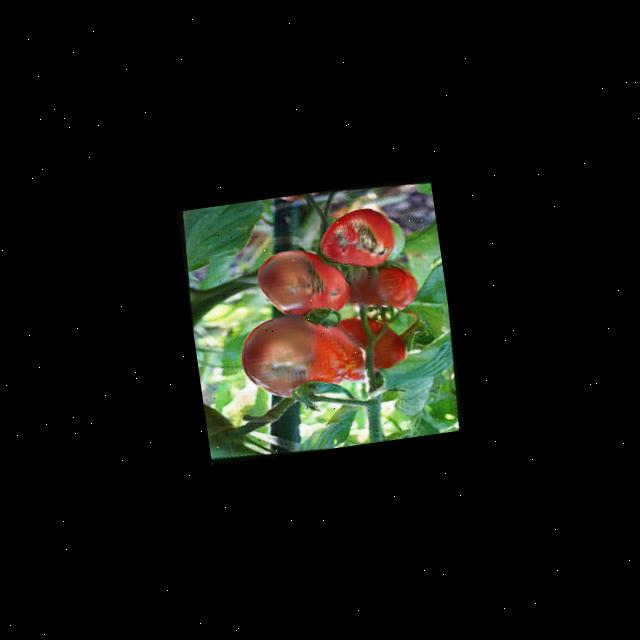tomato: (238, 304, 351, 404), (251, 240, 346, 320), (316, 204, 396, 274)
